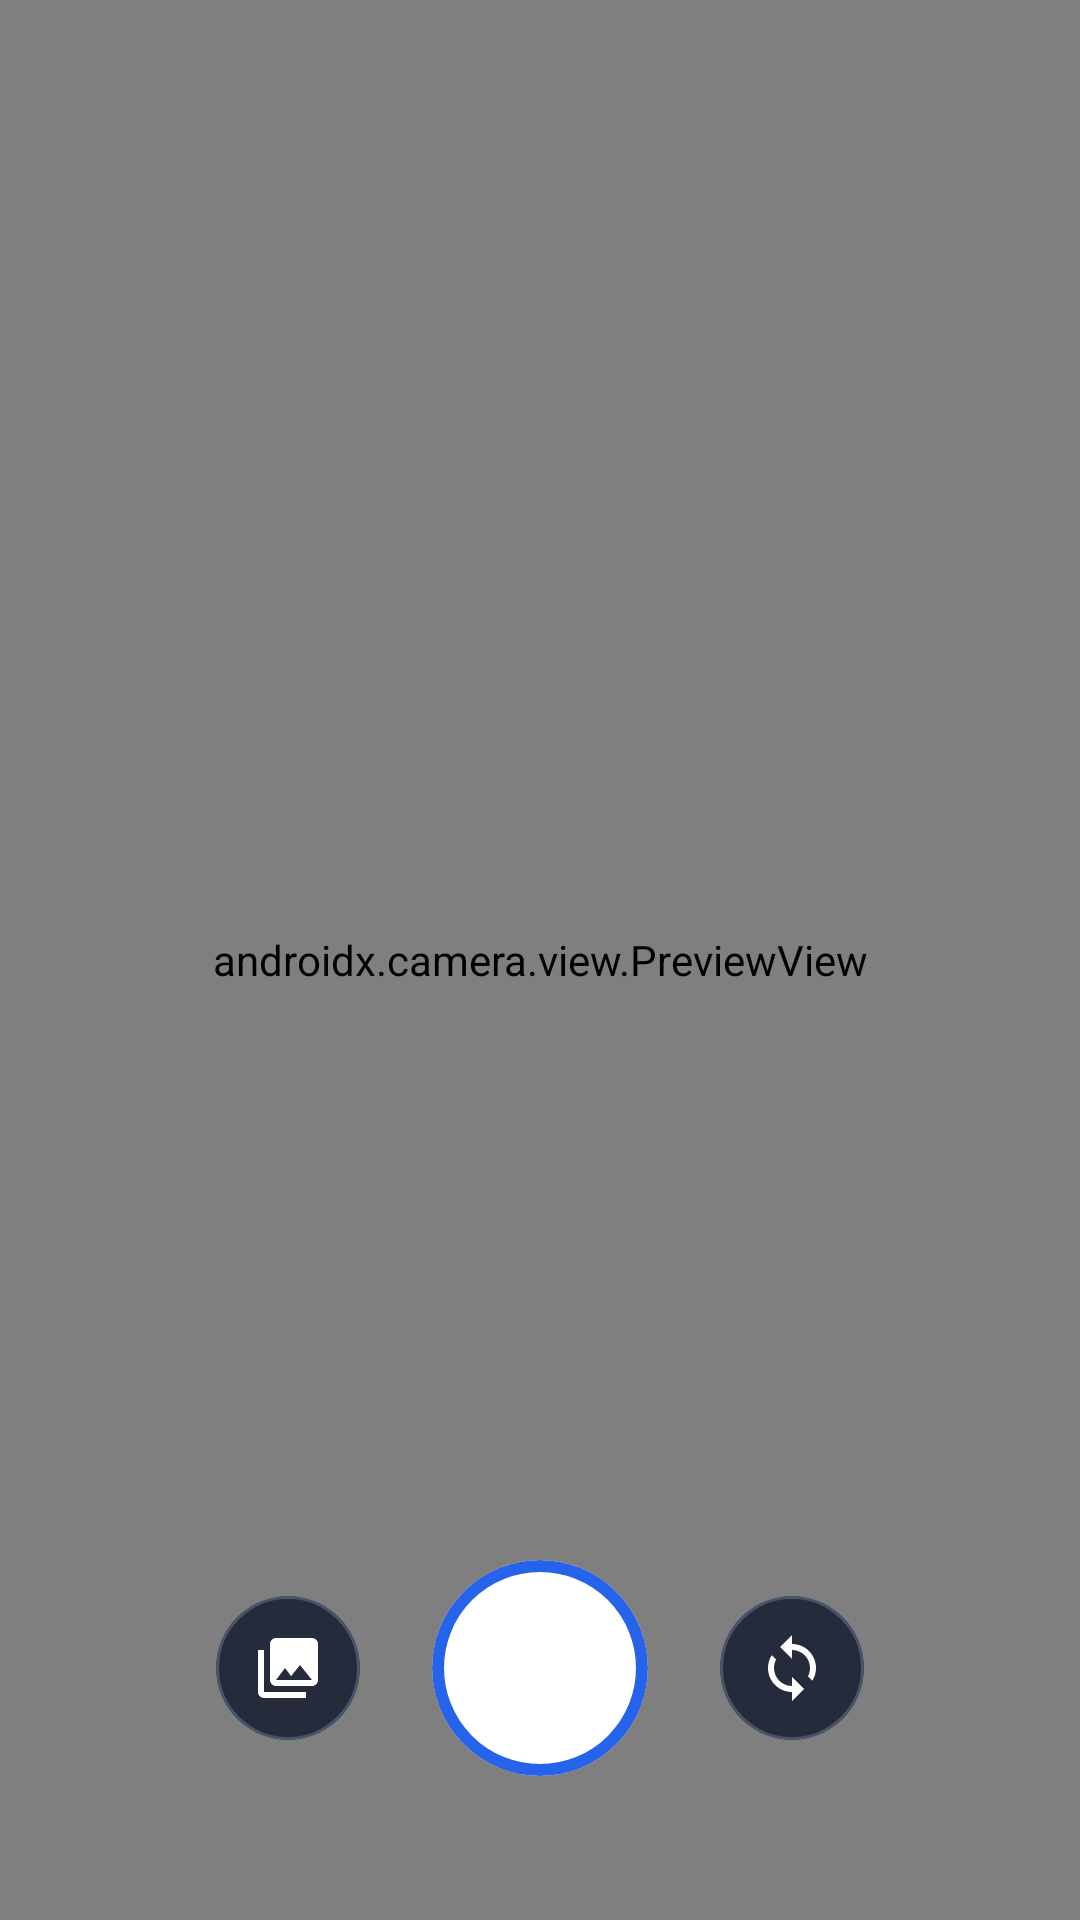

Point at icon controls on the screen. Image size 1080px x 1920px, points as (x,y).
Cambiar cámara: (792,1668)
Elegir de la galería: (288,1668)
